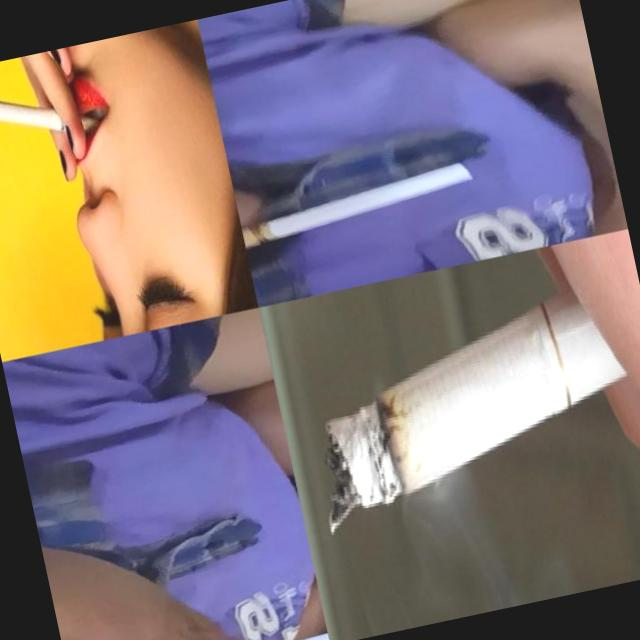cigarette: (288, 287, 628, 544), (236, 154, 483, 255), (0, 70, 102, 157), (218, 623, 328, 640)
